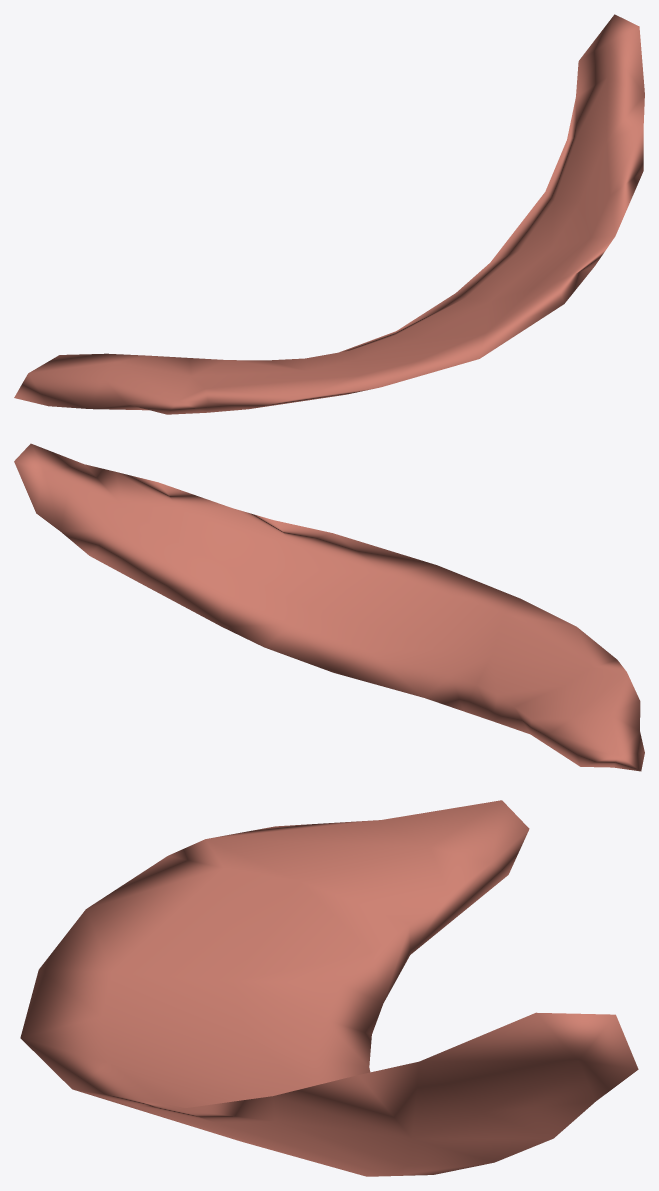
The picture shows the model from 3 angles, top to bottom: view 1: azimuth 30°, elevation 25°; view 2: azimuth 150°, elevation 25°; view 3: azimuth 270°, elevation 25°; orthographic projection. The views are drawn at different scales.
Visible parts, largest first — view 1: 左侧上睑板; view 2: 左侧上睑板; view 3: 左侧上睑板.
Boxes of the visible parts, box(x1,y1,x2,y2) form: 左侧上睑板: box(14, 14, 644, 414); 左侧上睑板: box(14, 443, 644, 771); 左侧上睑板: box(20, 800, 638, 1176).
Size of the model in its own units: 0.0376 by 0.0122 by 0.0169.
